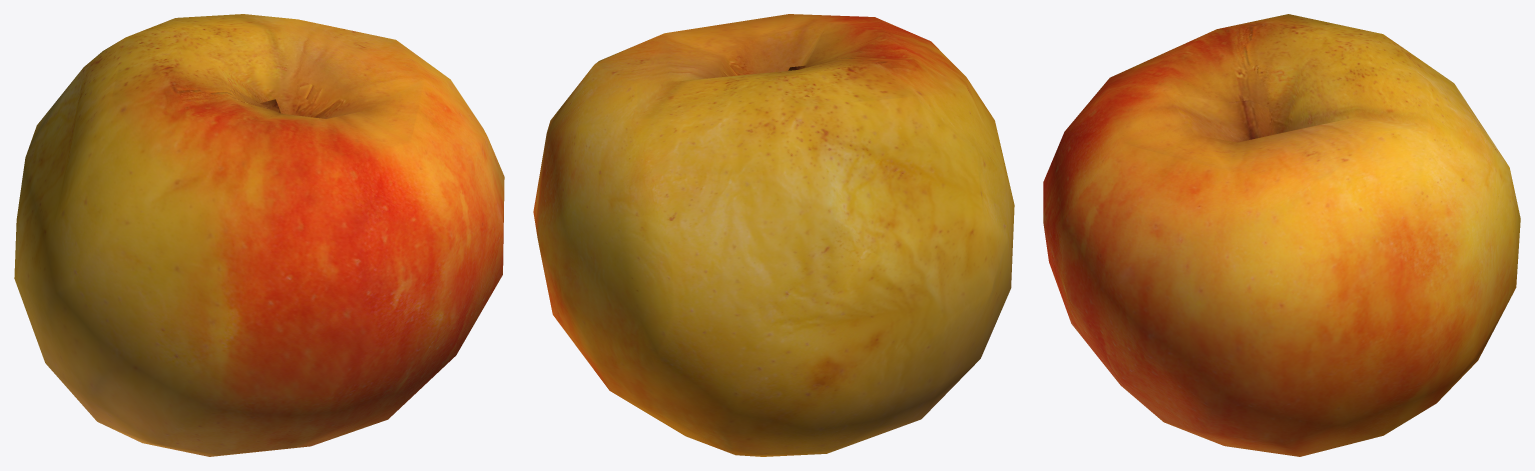
The model's file is lowpoly_apple__256_tris__130_verts.glb.
The picture shows the model from 3 angles, left to right: view 1: azimuth 30°, elevation 25°; view 2: azimuth 150°, elevation 25°; view 3: azimuth 270°, elevation 25°; orthographic projection. The views are drawn at different scales.
Parts seen in each view (by area): view 1: Object_2; view 2: Object_2; view 3: Object_2.
Boxes of the visible parts, <box> form: Object_2: <box>14,14,504,456</box>; Object_2: <box>533,14,1014,456</box>; Object_2: <box>1043,14,1520,456</box>.
Size of the model in its own units: 0.6661 by 0.5297 by 0.6575.
1 material, 1 textured.
